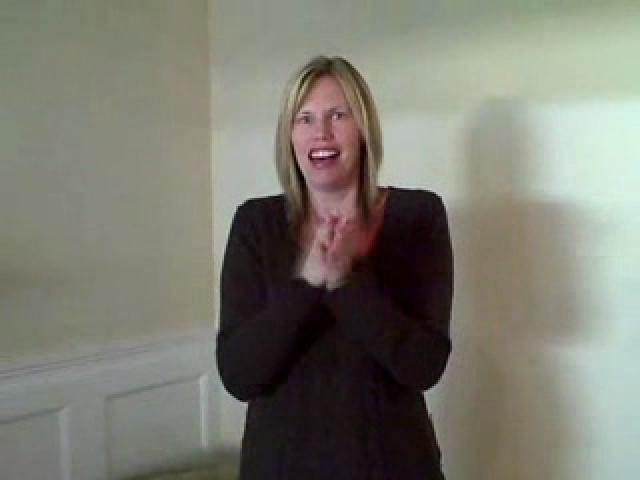F: (198, 45, 461, 480)
